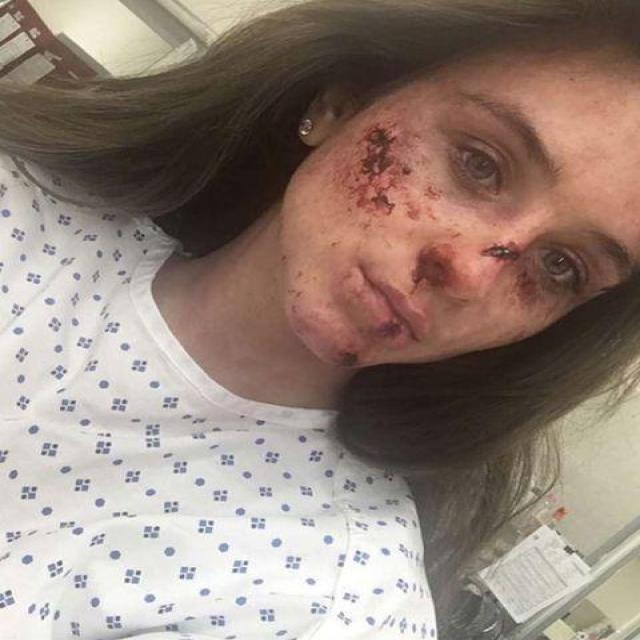flood: (308, 110, 560, 368)
